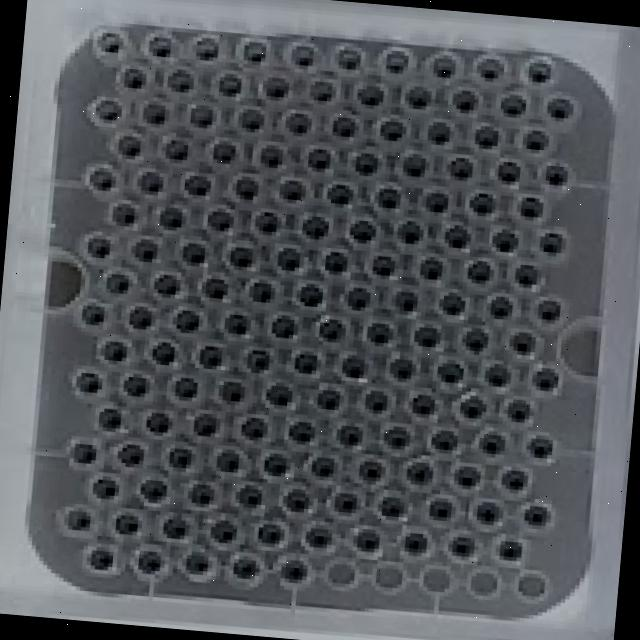pfs: (93, 33, 123, 64), (186, 411, 219, 436), (532, 367, 561, 395), (410, 393, 439, 419), (317, 389, 345, 414), (266, 383, 293, 407), (327, 183, 354, 206), (283, 488, 310, 511), (140, 479, 167, 502), (444, 225, 470, 248), (436, 361, 463, 383), (383, 427, 410, 449), (536, 299, 561, 322), (439, 292, 464, 315), (341, 355, 366, 378), (221, 381, 246, 404), (476, 501, 501, 524), (237, 484, 262, 507), (548, 97, 574, 119), (207, 209, 233, 231), (319, 319, 345, 341), (145, 412, 171, 434), (257, 523, 283, 545), (546, 166, 570, 189), (159, 206, 183, 229), (477, 58, 502, 80), (154, 274, 179, 296), (367, 322, 392, 344), (298, 284, 323, 306), (241, 417, 266, 439), (406, 462, 431, 484), (281, 560, 306, 582), (137, 551, 162, 573), (211, 520, 236, 542), (302, 217, 328, 238), (288, 421, 314, 442), (232, 557, 258, 578), (459, 398, 486, 418), (385, 50, 408, 73), (272, 315, 295, 338), (199, 345, 222, 368), (519, 196, 543, 218), (259, 145, 283, 167), (246, 348, 270, 370), (293, 352, 317, 374), (364, 390, 388, 412), (453, 90, 478, 111), (350, 221, 375, 242), (280, 179, 305, 200), (138, 172, 163, 193), (89, 169, 114, 190), (174, 311, 199, 332), (467, 261, 492, 282), (485, 364, 510, 385), (479, 434, 504, 455), (527, 437, 552, 458), (524, 505, 549, 526), (502, 470, 527, 491), (379, 497, 404, 518), (114, 514, 139, 535), (168, 448, 193, 469), (169, 70, 192, 92), (218, 74, 241, 96), (112, 203, 135, 225), (134, 239, 157, 261), (129, 306, 152, 328), (175, 377, 198, 399), (120, 444, 143, 466), (143, 103, 167, 124), (376, 187, 400, 208), (239, 109, 263, 130), (255, 211, 279, 232), (229, 246, 253, 267), (324, 251, 348, 272), (103, 341, 127, 362), (151, 343, 175, 364), (390, 358, 414, 379), (415, 326, 439, 347), (123, 375, 147, 396), (433, 430, 457, 451), (429, 499, 453, 520), (359, 461, 383, 482), (190, 484, 214, 505), (264, 77, 289, 97), (500, 96, 525, 116), (184, 175, 209, 195), (462, 331, 487, 351), (455, 467, 480, 487), (306, 528, 331, 548), (263, 456, 289, 475), (196, 37, 218, 59), (516, 264, 538, 286), (278, 248, 300, 270), (291, 45, 314, 66), (432, 56, 455, 77), (528, 62, 551, 83), (475, 126, 498, 147), (540, 232, 563, 253), (403, 155, 426, 176), (355, 153, 378, 174), (339, 425, 362, 446), (334, 492, 357, 513), (310, 81, 334, 101), (380, 120, 404, 140), (286, 113, 310, 133), (250, 282, 274, 302), (76, 372, 100, 392), (450, 537, 474, 557), (355, 531, 379, 551), (358, 87, 383, 106), (339, 48, 361, 69), (118, 136, 140, 157), (183, 243, 205, 264), (490, 297, 512, 318), (347, 288, 369, 309), (99, 408, 121, 429), (404, 533, 426, 554), (217, 450, 239, 471), (149, 36, 172, 56), (524, 130, 547, 150), (407, 87, 430, 107), (470, 193, 493, 213), (213, 142, 236, 162), (190, 105, 213, 125), (225, 314, 248, 334), (203, 278, 226, 298), (498, 540, 521, 560), (96, 100, 120, 119), (71, 444, 95, 463), (93, 479, 117, 498), (244, 41, 265, 62), (236, 178, 257, 199), (450, 158, 472, 178), (398, 223, 420, 243), (87, 238, 109, 258), (106, 273, 128, 293), (82, 304, 104, 324), (395, 291, 417, 311), (372, 255, 394, 275), (312, 457, 334, 477), (511, 335, 534, 354), (507, 402, 530, 421), (185, 555, 208, 574), (164, 519, 187, 538), (66, 510, 89, 529), (428, 123, 449, 143), (307, 150, 328, 170), (123, 69, 145, 88), (333, 117, 355, 136), (166, 140, 188, 159), (492, 234, 516, 251), (498, 163, 519, 182), (425, 194, 447, 212), (89, 551, 111, 569), (419, 259, 438, 278)
